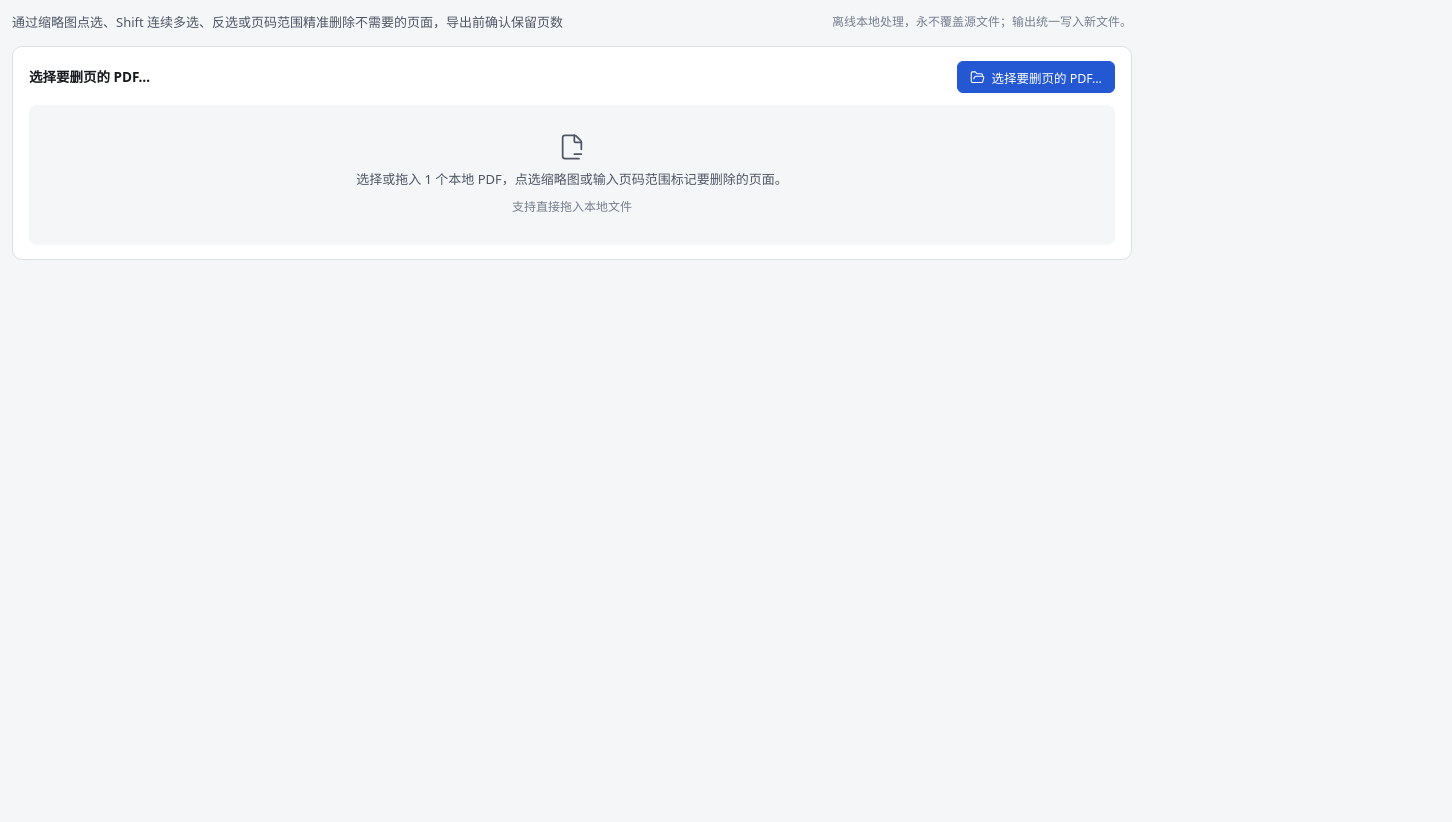
Scenario: P10 PdfDeleteWorkspace › blocks deleting all pages, supports range + invert selection, and exports trimmed PDF
The width and height of the screenshot is (1452, 822).
Step 1. Click the button "选择要删页的 PDF…" → [1036, 77], box x1=957 y1=61 x2=1115 y2=93
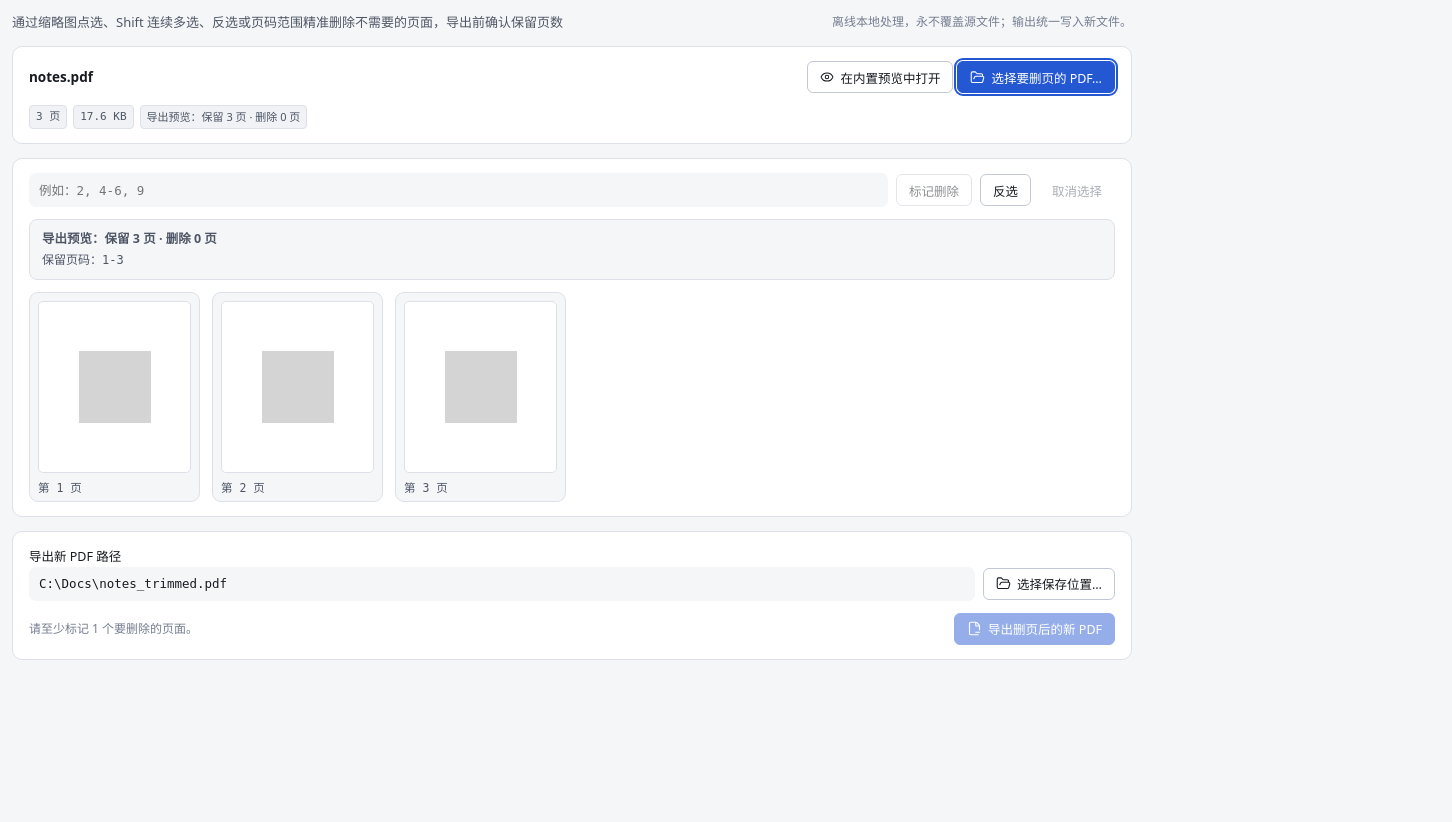
Result: the list with test id "pdf-page-grid" is shown at x1=29 y1=292 x2=566 y2=502
Step 2. Click the button "反选" → [1006, 190], box x1=980 y1=174 x2=1031 y2=206
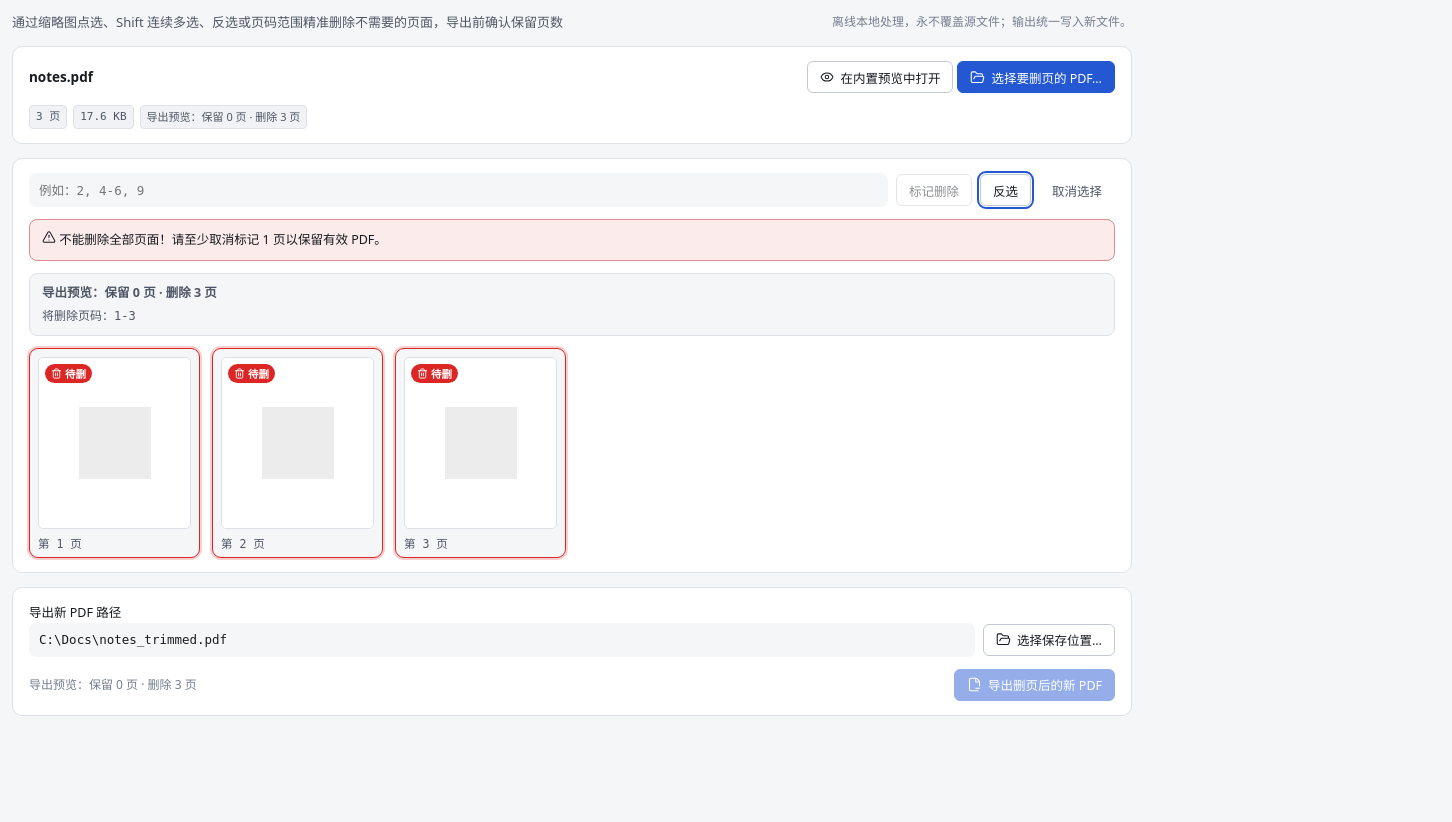
Result: the button "导出删页后的新 PDF" is disabled at x1=954 y1=668 x2=1115 y2=700
Result: the text "不能删除全部页面！请至少取消标记 1 页以保留有效 PDF。" is shown at x1=29 y1=219 x2=1115 y2=261
// Mark only page 2 via range input and export
Step 3. Type "2" into the field named "按页码范围标记删除" → [458, 190], box x1=29 y1=173 x2=888 y2=207
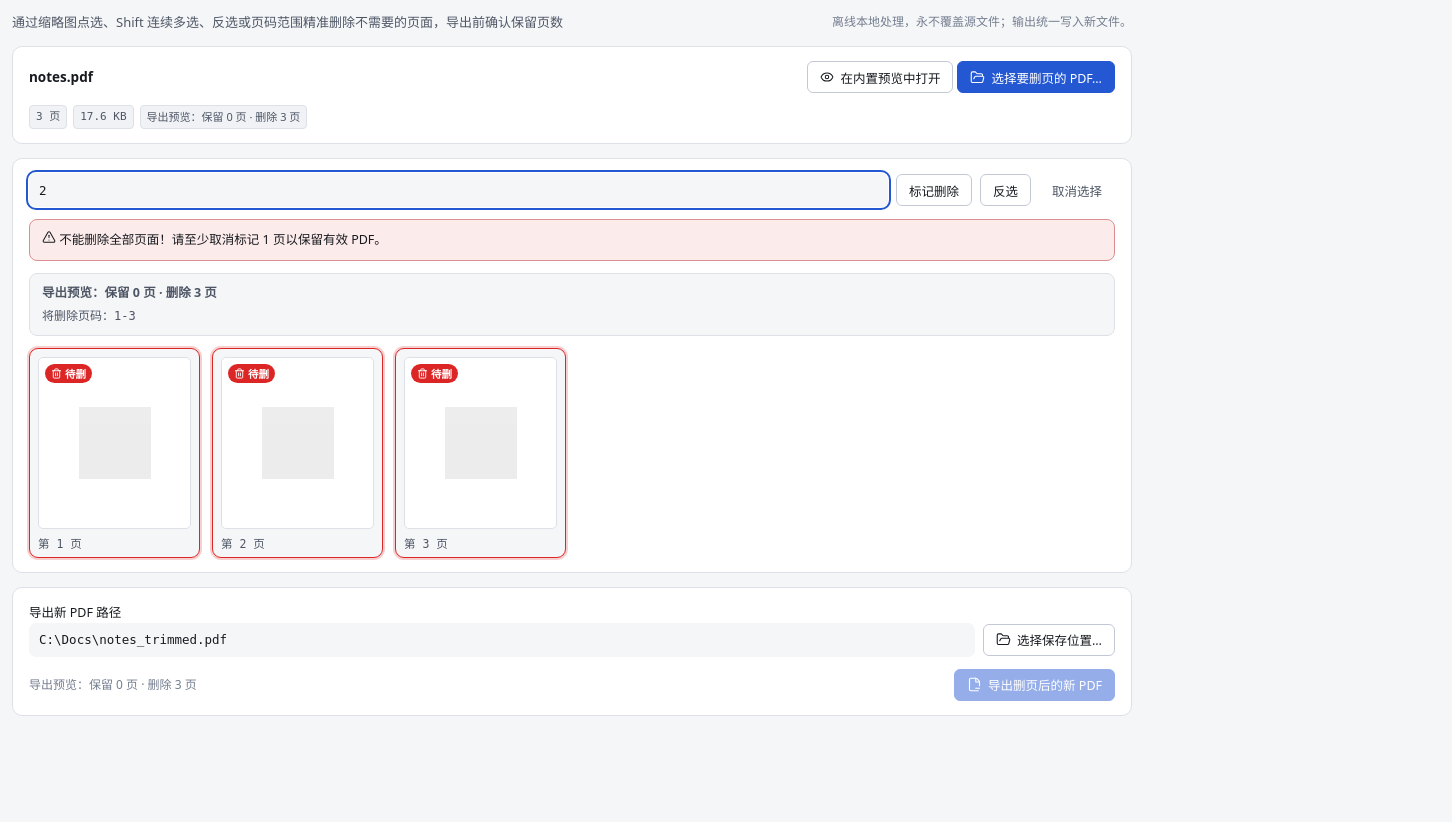
Step 4. Click the button "标记删除" → [934, 190], box x1=896 y1=174 x2=972 y2=206
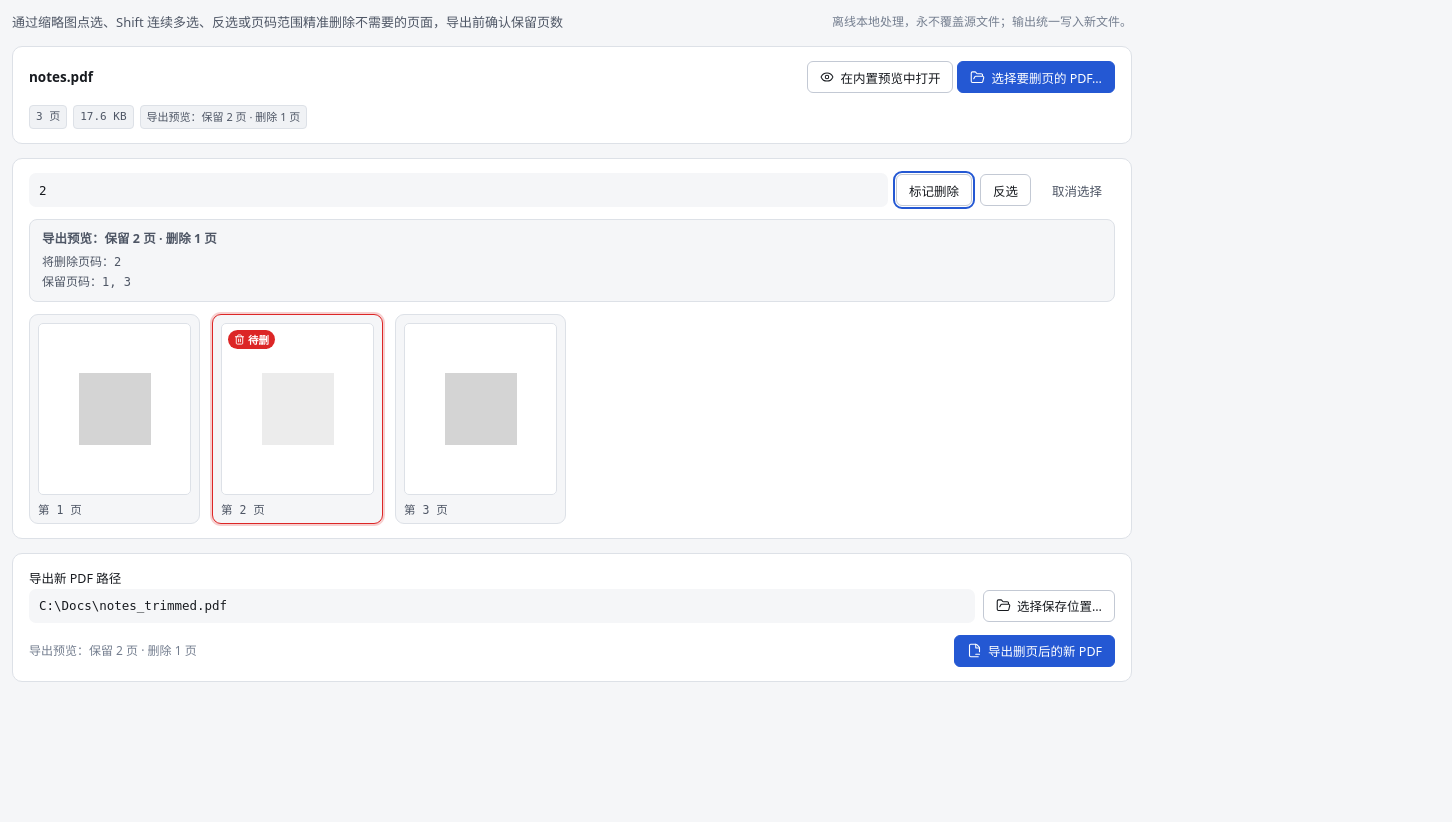
Result: the button "导出删页后的新 PDF" is enabled
Step 5. Click the button "导出删页后的新 PDF" → [1035, 651], box x1=954 y1=635 x2=1115 y2=667
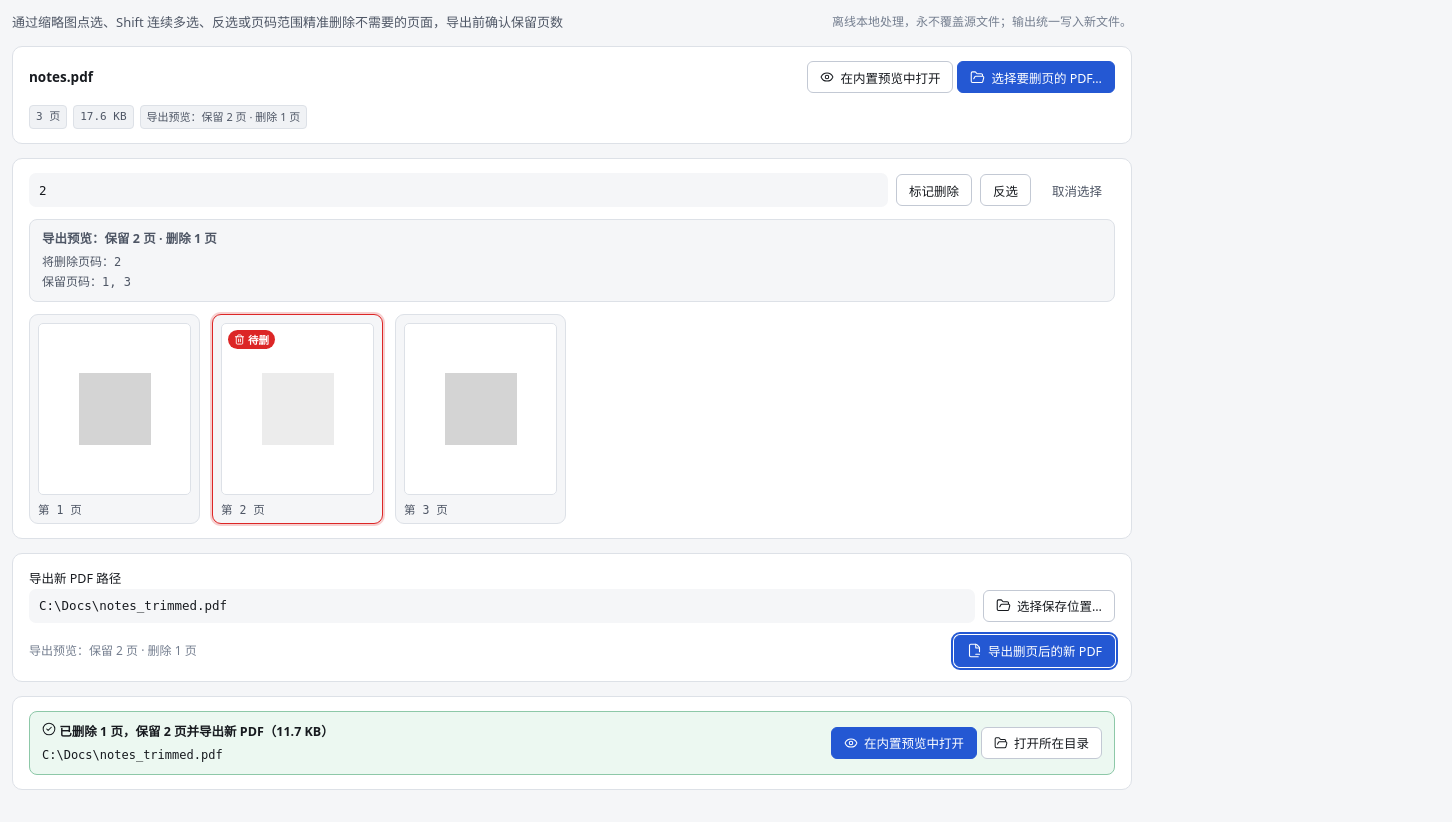
Result: the element with test id "pdf-delete-result" is shown at x1=12 y1=696 x2=1132 y2=790
